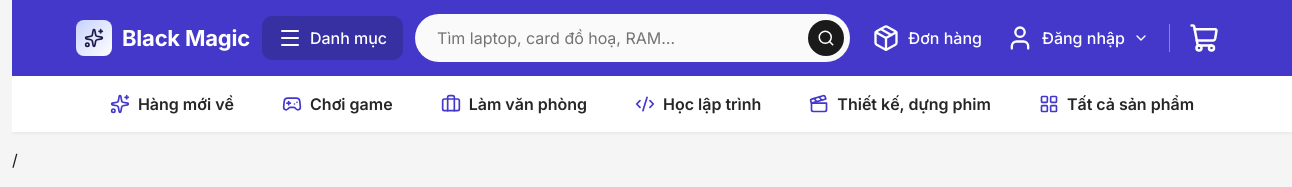
Test: Header › tìm kiếm: bỏ khoảng trắng hai đầu rồi sang /products?q=…
The width and height of the screenshot is (1292, 187).
In the search field named "Tìm sản phẩm theo tên": coordinates (618, 38) [437, 14, 798, 62], type "  rtx 4070 "
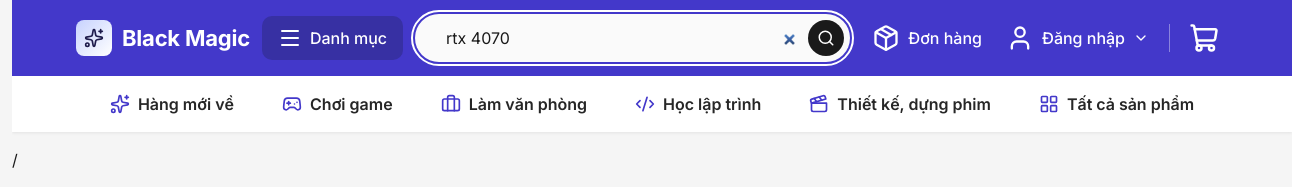
Click the button named "Tìm": coordinates (826, 38) [808, 20, 844, 56]
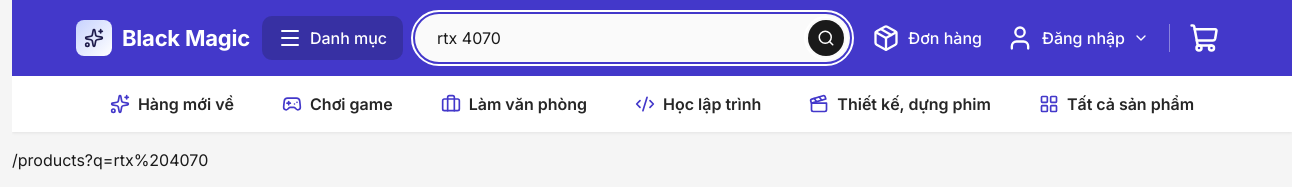
Expected: the text with test id "url" reads "/products?q=rtx%204070", [12, 150, 208, 170]
